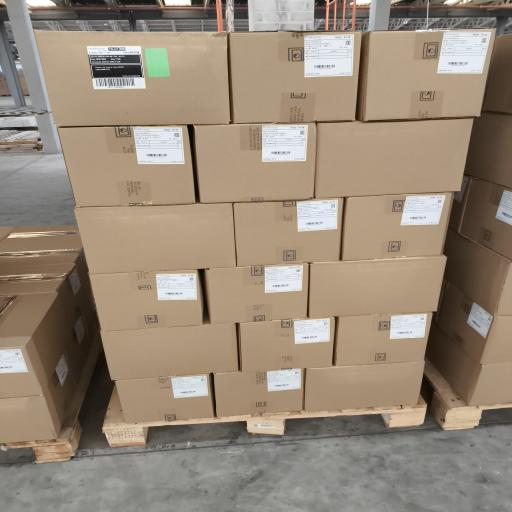pallet: (103, 387, 426, 446), (5, 330, 102, 463), (424, 359, 511, 430)
